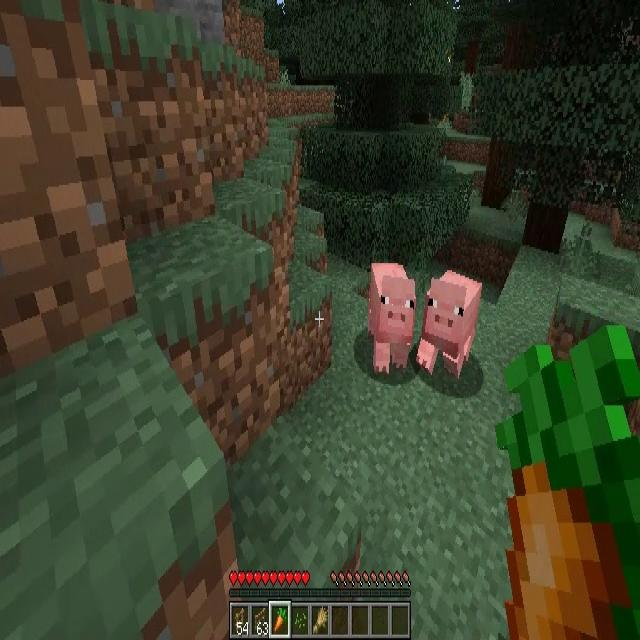pig: (415, 269, 483, 370), (370, 262, 414, 373)
